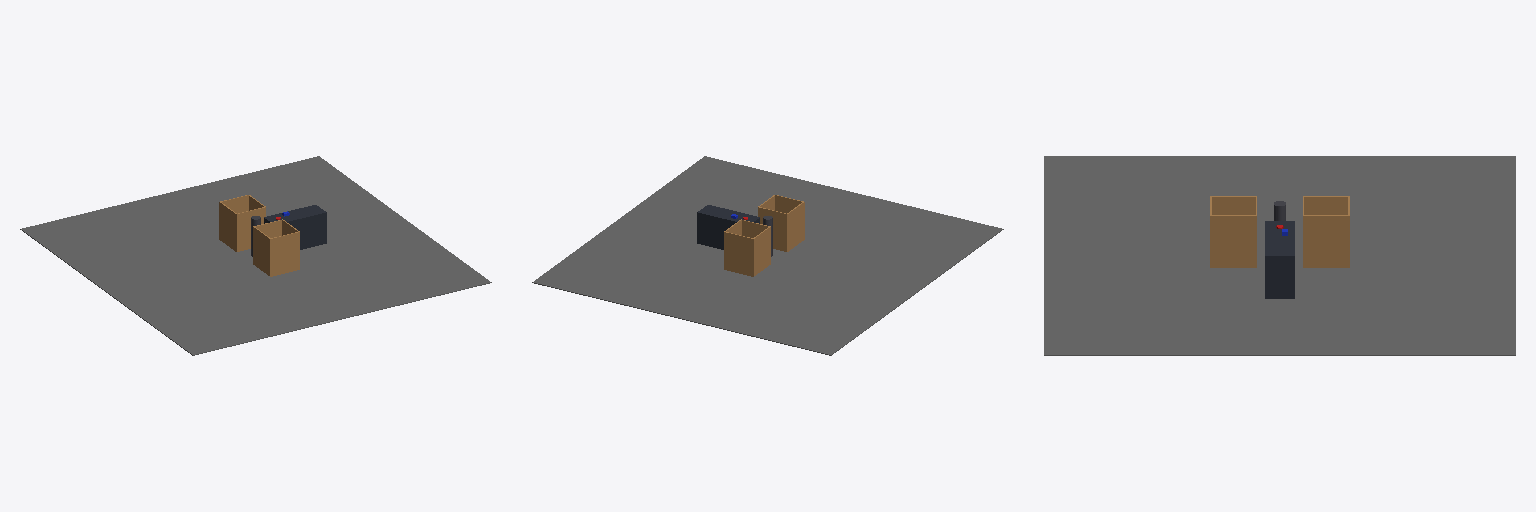
The robot description file, URDF, robot "aicor_cell_environment":
<?xml version="1.0"?>
<!-- AICOR automation cell environment, converted from
     automationMockup/src/camera_sim/cell_scene.xml (MJCF).
     MJCF half-extents are doubled to URDF full extents; world-fixed body
     poses are baked in via fixed joints. The freely movable parts (deckel,
     boxteil) are pinned at their MJCF spawn poses for viewing. -->
<robot name="aicor_cell_environment">

  <material name="floor_grey"><color rgba="0.45 0.45 0.45 1"/></material>
  <material name="band_dark"><color rgba="0.22 0.24 0.28 1"/></material>
  <material name="deckel_red"><color rgba="0.80 0.15 0.15 1"/></material>
  <material name="boxteil_blue"><color rgba="0.15 0.25 0.80 1"/></material>
  <material name="container_wood"><color rgba="0.72 0.55 0.36 1"/></material>
  <material name="column_grey"><color rgba="0.3 0.3 0.33 1"/></material>

  <link name="boden">
    <visual>
      <origin xyz="0 0 -0.01"/>
      <geometry><box size="8 8 0.02"/></geometry>
      <material name="floor_grey"/>
    </visual>
  </link>

  <link name="band">
    <visual>
      <geometry><box size="1.4 0.5 0.8"/></geometry>
      <material name="band_dark"/>
    </visual>
  </link>
  <joint name="band_fix" type="fixed">
    <parent link="boden"/>
    <child link="band"/>
    <origin xyz="1.05 0 0.4"/>
  </joint>

  <link name="deckel">
    <visual>
      <geometry><cylinder radius="0.06" length="0.024"/></geometry>
      <material name="deckel_red"/>
    </visual>
  </link>
  <joint name="deckel_fix" type="fixed">
    <parent link="boden"/>
    <child link="deckel"/>
    <origin xyz="0.6 0.0 0.815"/>
  </joint>

  <link name="boxteil">
    <visual>
      <geometry><box size="0.14 0.10 0.064"/></geometry>
      <material name="boxteil_blue"/>
    </visual>
  </link>
  <joint name="boxteil_fix" type="fixed">
    <parent link="boden"/>
    <child link="boxteil"/>
    <origin xyz="0.85 0.08 0.835"/>
  </joint>

  <link name="box_links">
    <visual>
      <origin xyz="0 0 0.08"/>
      <geometry><box size="0.74 0.74 0.16"/></geometry>
      <material name="container_wood"/>
    </visual>
    <visual>
      <origin xyz="0.385 0 0.485"/>
      <geometry><box size="0.03 0.80 0.97"/></geometry>
      <material name="container_wood"/>
    </visual>
    <visual>
      <origin xyz="-0.385 0 0.485"/>
      <geometry><box size="0.03 0.80 0.97"/></geometry>
      <material name="container_wood"/>
    </visual>
    <visual>
      <origin xyz="0 0.385 0.485"/>
      <geometry><box size="0.74 0.03 0.97"/></geometry>
      <material name="container_wood"/>
    </visual>
    <visual>
      <origin xyz="0 -0.385 0.485"/>
      <geometry><box size="0.74 0.03 0.97"/></geometry>
      <material name="container_wood"/>
    </visual>
  </link>
  <joint name="box_links_fix" type="fixed">
    <parent link="boden"/>
    <child link="box_links"/>
    <origin xyz="0.1 0.785 0"/>
  </joint>

  <link name="box_rechts">
    <visual>
      <origin xyz="0 0 0.08"/>
      <geometry><box size="0.74 0.74 0.16"/></geometry>
      <material name="container_wood"/>
    </visual>
    <visual>
      <origin xyz="0.385 0 0.485"/>
      <geometry><box size="0.03 0.80 0.97"/></geometry>
      <material name="container_wood"/>
    </visual>
    <visual>
      <origin xyz="-0.385 0 0.485"/>
      <geometry><box size="0.03 0.80 0.97"/></geometry>
      <material name="container_wood"/>
    </visual>
    <visual>
      <origin xyz="0 0.385 0.485"/>
      <geometry><box size="0.74 0.03 0.97"/></geometry>
      <material name="container_wood"/>
    </visual>
    <visual>
      <origin xyz="0 -0.385 0.485"/>
      <geometry><box size="0.74 0.03 0.97"/></geometry>
      <material name="container_wood"/>
    </visual>
  </link>
  <joint name="box_rechts_fix" type="fixed">
    <parent link="boden"/>
    <child link="box_rechts"/>
    <origin xyz="0.1 -0.785 0"/>
  </joint>

  <link name="saeule">
    <visual>
      <geometry><cylinder radius="0.11" length="0.97"/></geometry>
      <material name="column_grey"/>
    </visual>
  </link>
  <joint name="saeule_fix" type="fixed">
    <parent link="boden"/>
    <child link="saeule"/>
    <origin xyz="0 0 0.485"/>
  </joint>

</robot>

--- What the picture shows (computed from the rendered views, not written in the file) ---
Views: 3 orthographic renders of the robot side by side, from view 1: azimuth 30°, elevation 25°; view 2: azimuth 150°, elevation 25°; view 3: azimuth 270°, elevation 25°.
Model aicor_cell_environment with 7 links and 6 joints (6 fixed), rooted at boden, posed all joints at 0.
Visible links, largest first — view 1: boden, box_rechts, box_links, band; view 2: boden, box_links, box_rechts, band; view 3: boden, box_links, box_rechts, band.
Boxes of the visible links, left/top/right/bottom form: boden: left=20, top=156, right=491, bottom=355; box_rechts: left=253, top=219, right=299, bottom=276; box_links: left=219, top=195, right=265, bottom=251; band: left=264, top=205, right=326, bottom=249; boden: left=532, top=156, right=1003, bottom=355; box_links: left=724, top=219, right=770, bottom=276; box_rechts: left=758, top=195, right=804, bottom=251; band: left=697, top=205, right=759, bottom=249; boden: left=1044, top=156, right=1515, bottom=355; box_links: left=1303, top=196, right=1349, bottom=267; box_rechts: left=1210, top=196, right=1256, bottom=267; band: left=1265, top=221, right=1294, bottom=298.
Bounding box of the posed robot: 8 × 8 × 0.99 m (x, y, z).
Geometry: primitives only (box / cylinder / sphere), no mesh files.
